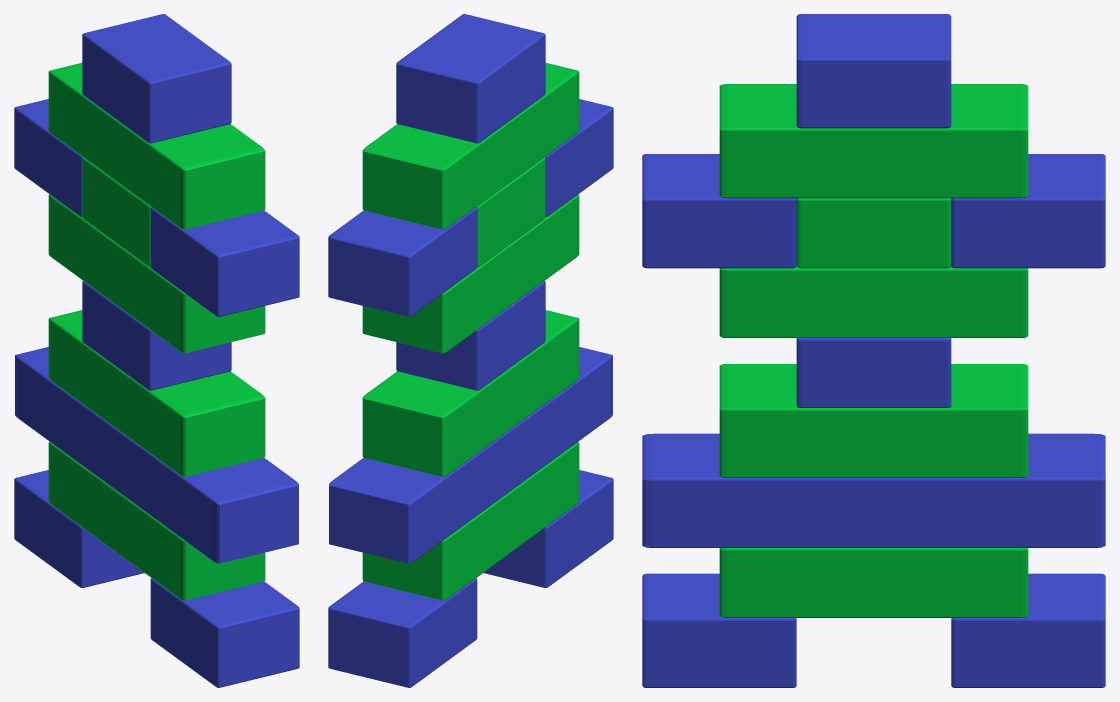
File: MysteryMan.fbx
The picture shows the model from 3 angles, left to right: view 1: azimuth 30°, elevation 25°; view 2: azimuth 150°, elevation 25°; view 3: azimuth 270°, elevation 25°; orthographic projection. The views are drawn at different scales.
Visible parts, largest first — view 1: Cube; view 2: Cube; view 3: Cube.
Boxes of the visible parts, box(x1,y1,x2,y2) form: Cube: box(14, 14, 299, 687); Cube: box(328, 14, 613, 687); Cube: box(642, 14, 1105, 687).
Size of the model in its own units: 45.99 by 294 by 196.
